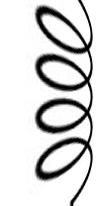inductor: (27, 1, 93, 205)
